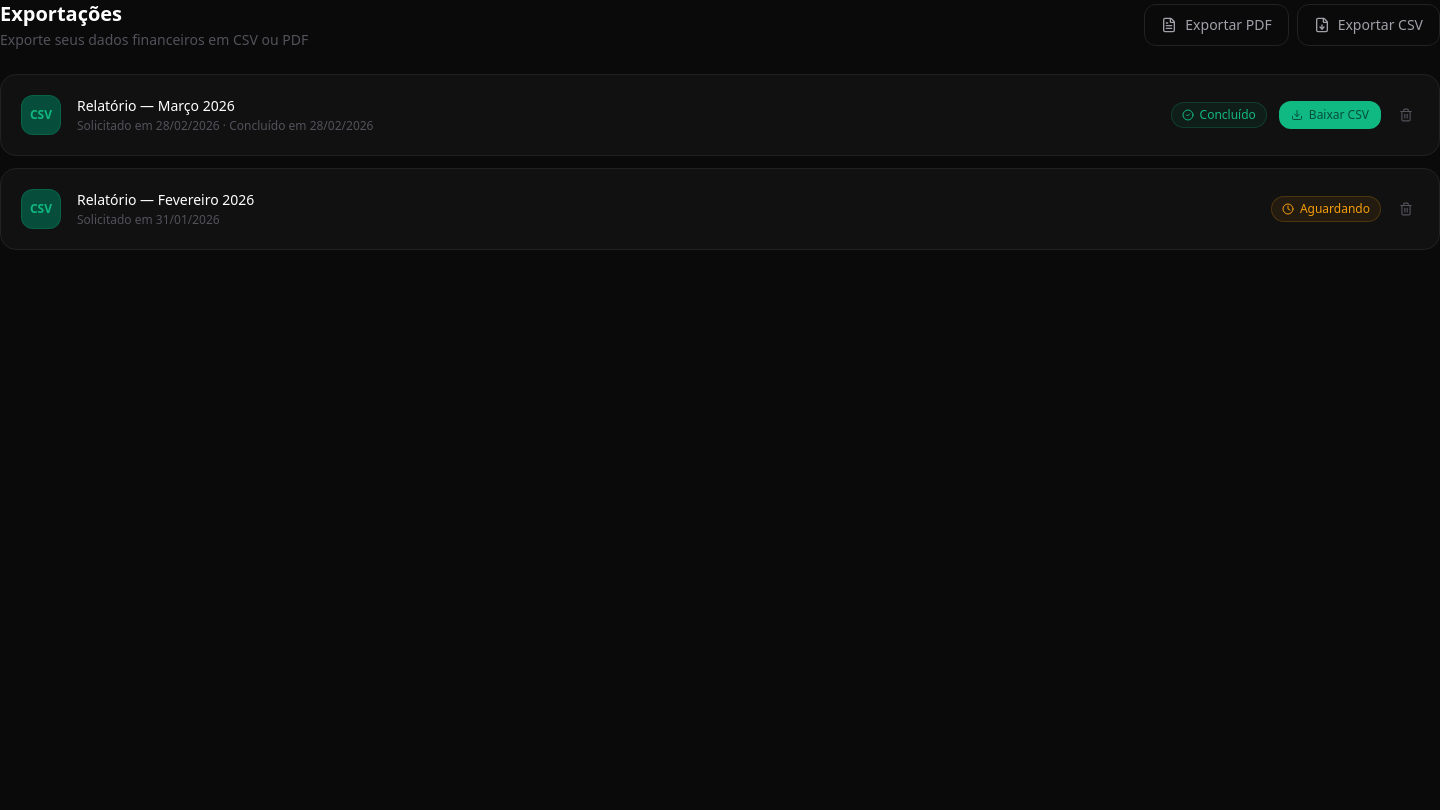
Test: ExportsPage › deve abrir modal ao clicar em Exportar PDF
This screenshot has width=1440, height=810.
Click the button "Exportar PDF". click: (1216, 25)
box: [1144,4,1289,46]
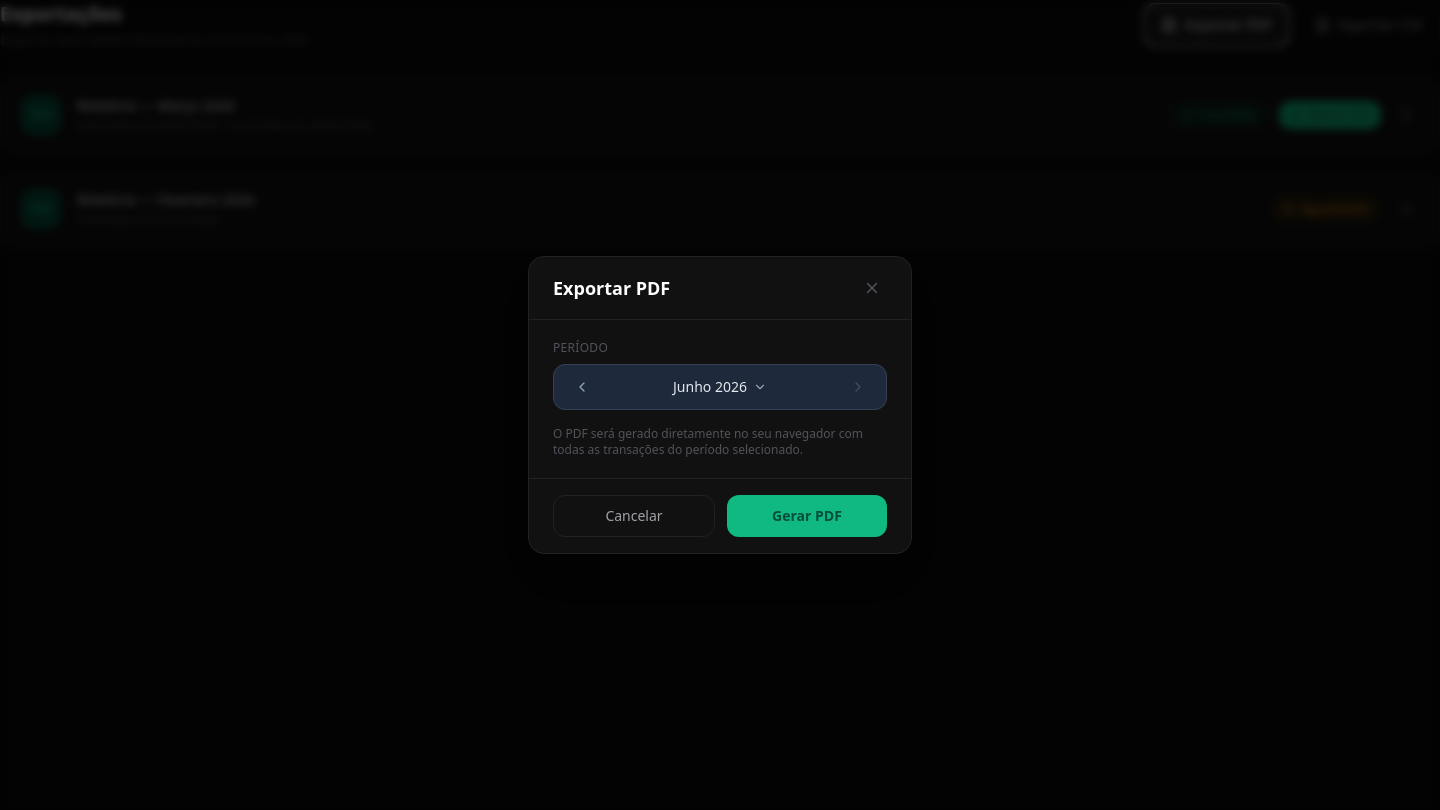
Expected: the button "Gerar PDF" is shown, [727,495,887,537]
